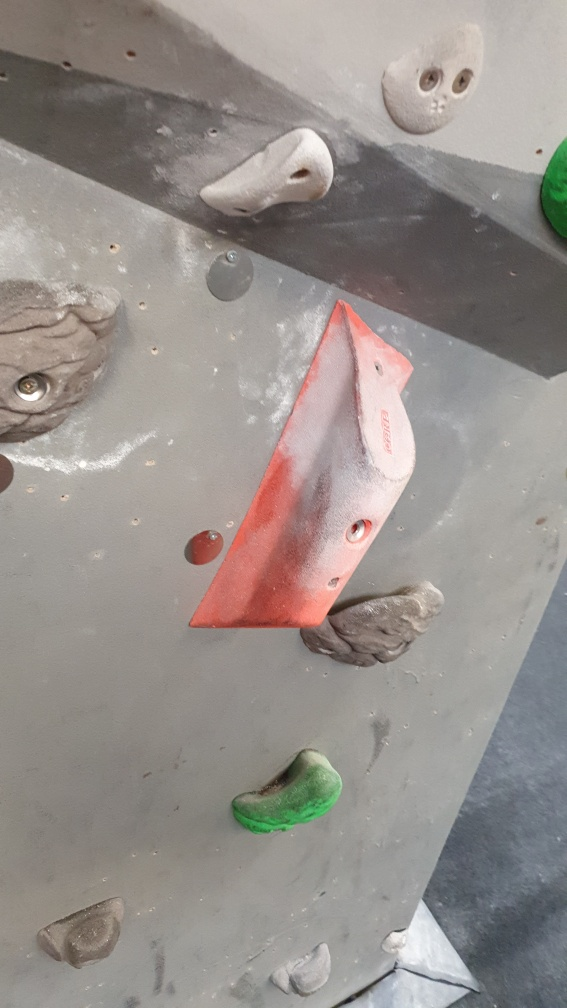Hand Start: (204, 244, 259, 307), (183, 527, 224, 566)
Jug: (299, 572, 446, 670), (226, 744, 348, 841), (268, 941, 333, 996)
Pinch: (183, 297, 418, 639)
